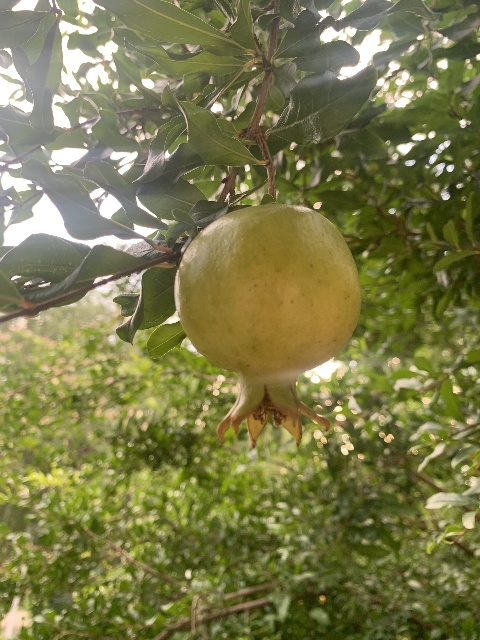mid-growth: (174, 204, 362, 449)
